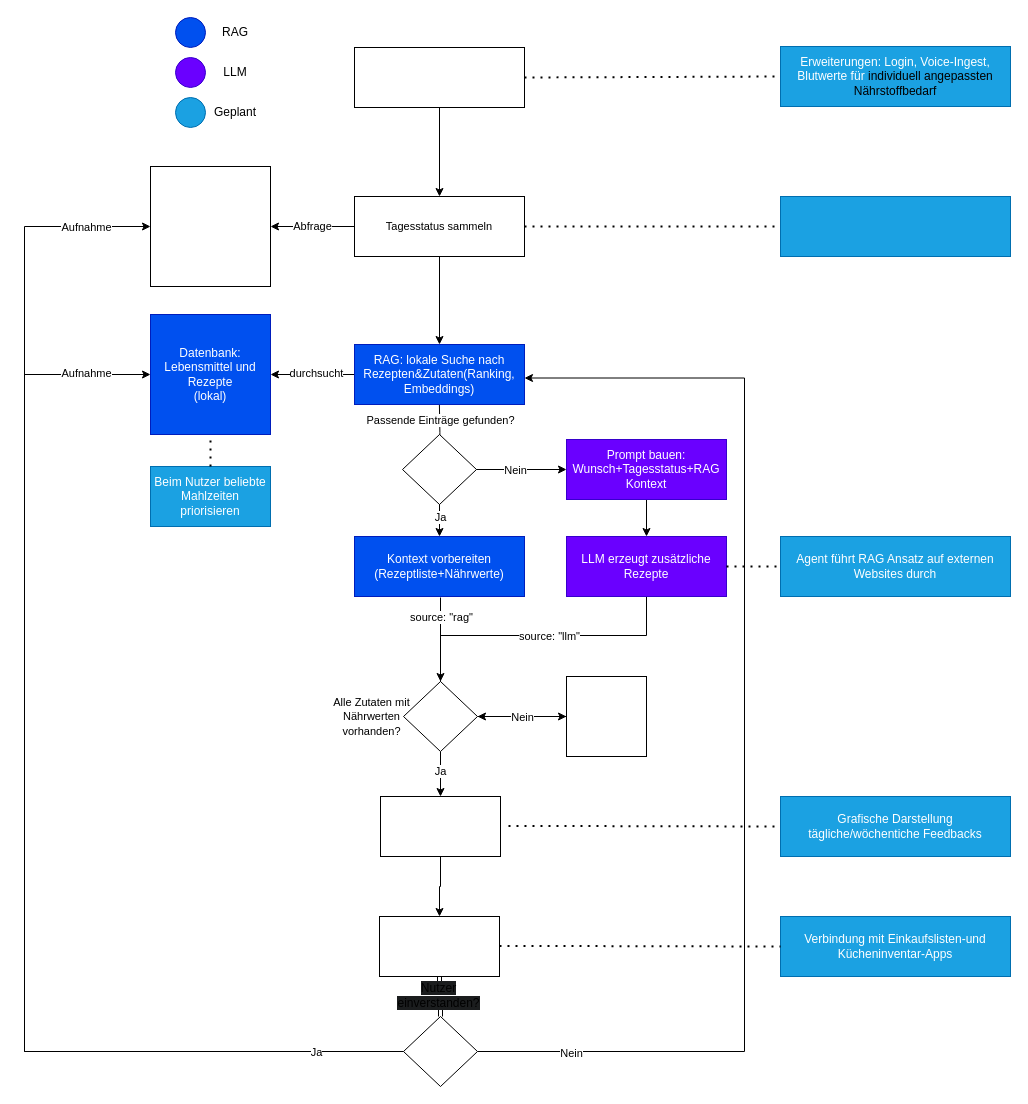
This 1028x1104 diagram has some shape labels left out. The shapes that lost their labels are listed below. From the top down, each one's centre as x and y in pixels, then its label:
point (439, 77): Nutzereingabe: Gewicht, Datum, Präferenzen, Zutaten
point (210, 226): Datenbank: Bereits gegessen, Bewegung, Ziele (lokal)
point (895, 226): Erfassung sportl. Aktivitäten: Verbinden mit Fitnessuhr, Health Apps
point (606, 716): Externe Datenbank per API (online)
point (440, 826): Makros berechnen&Portionen anpassen
point (439, 946): Antwort als JSON
